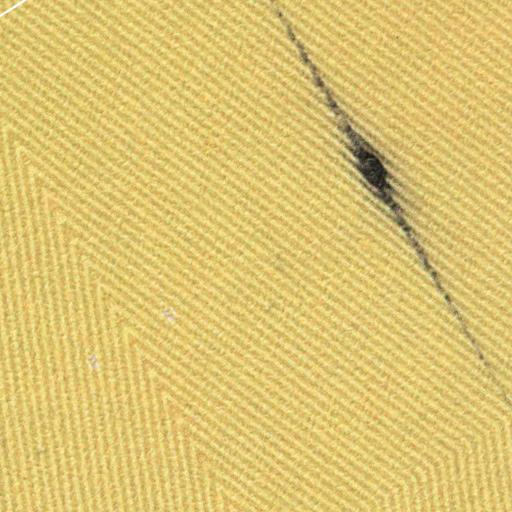stain: (266, 3, 496, 402)
